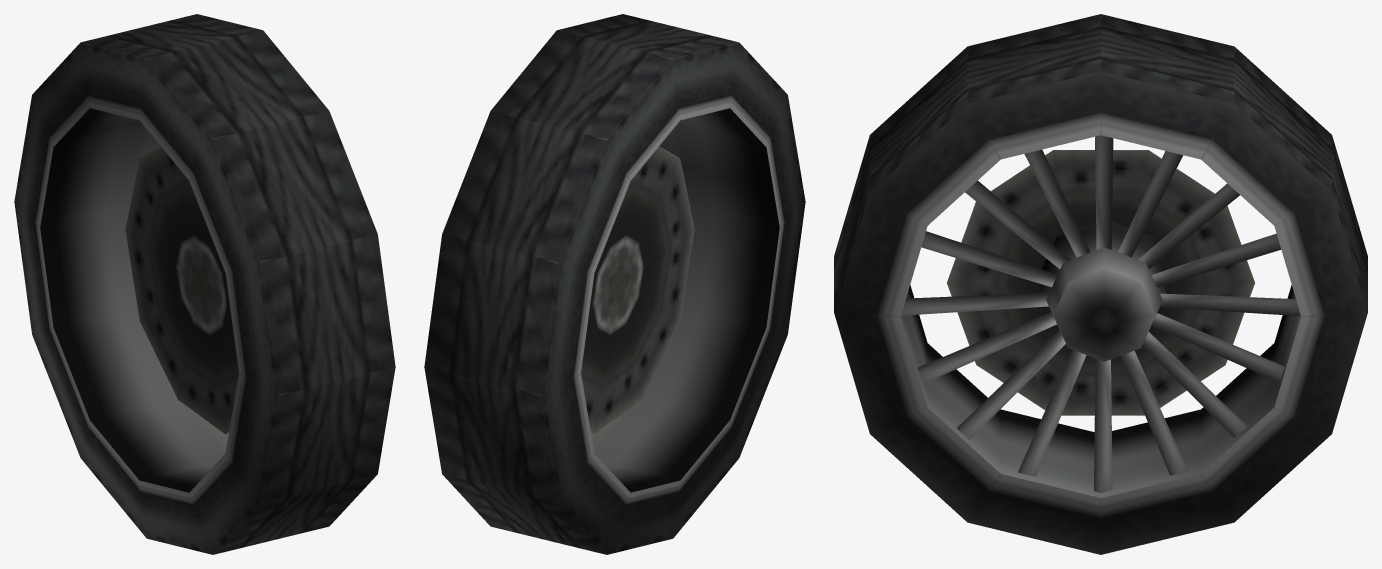
File: wheel_sr4.glb
3 renders of one model, left to right at view 1: azimuth 30°, elevation 25°; view 2: azimuth 150°, elevation 25°; view 3: azimuth 270°, elevation 25°, orthographic.
Parts seen in each view (by area): view 1: wheel_sr4; view 2: wheel_sr4; view 3: wheel_sr4.
Part boxes in pixels (x1,y1,x2,y2): wheel_sr4: (14,14,395,554); wheel_sr4: (424,14,805,554); wheel_sr4: (834,14,1367,554).
Bounding box in the file's own units: 0.3299 × 0.9843 × 0.9843.
Materials: 2 (2 with a texture image).
